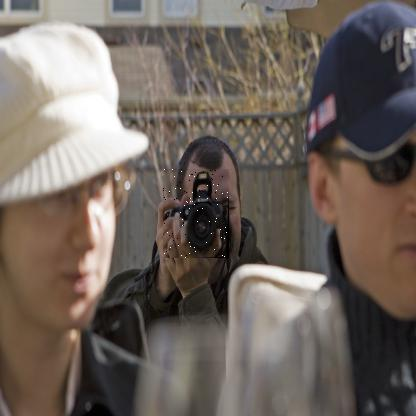Camera: (164, 170, 231, 260)
